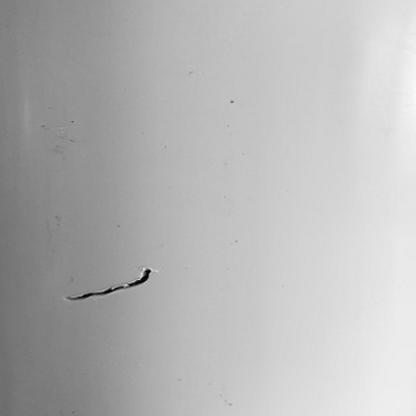fengxi: (61, 267, 155, 300)
